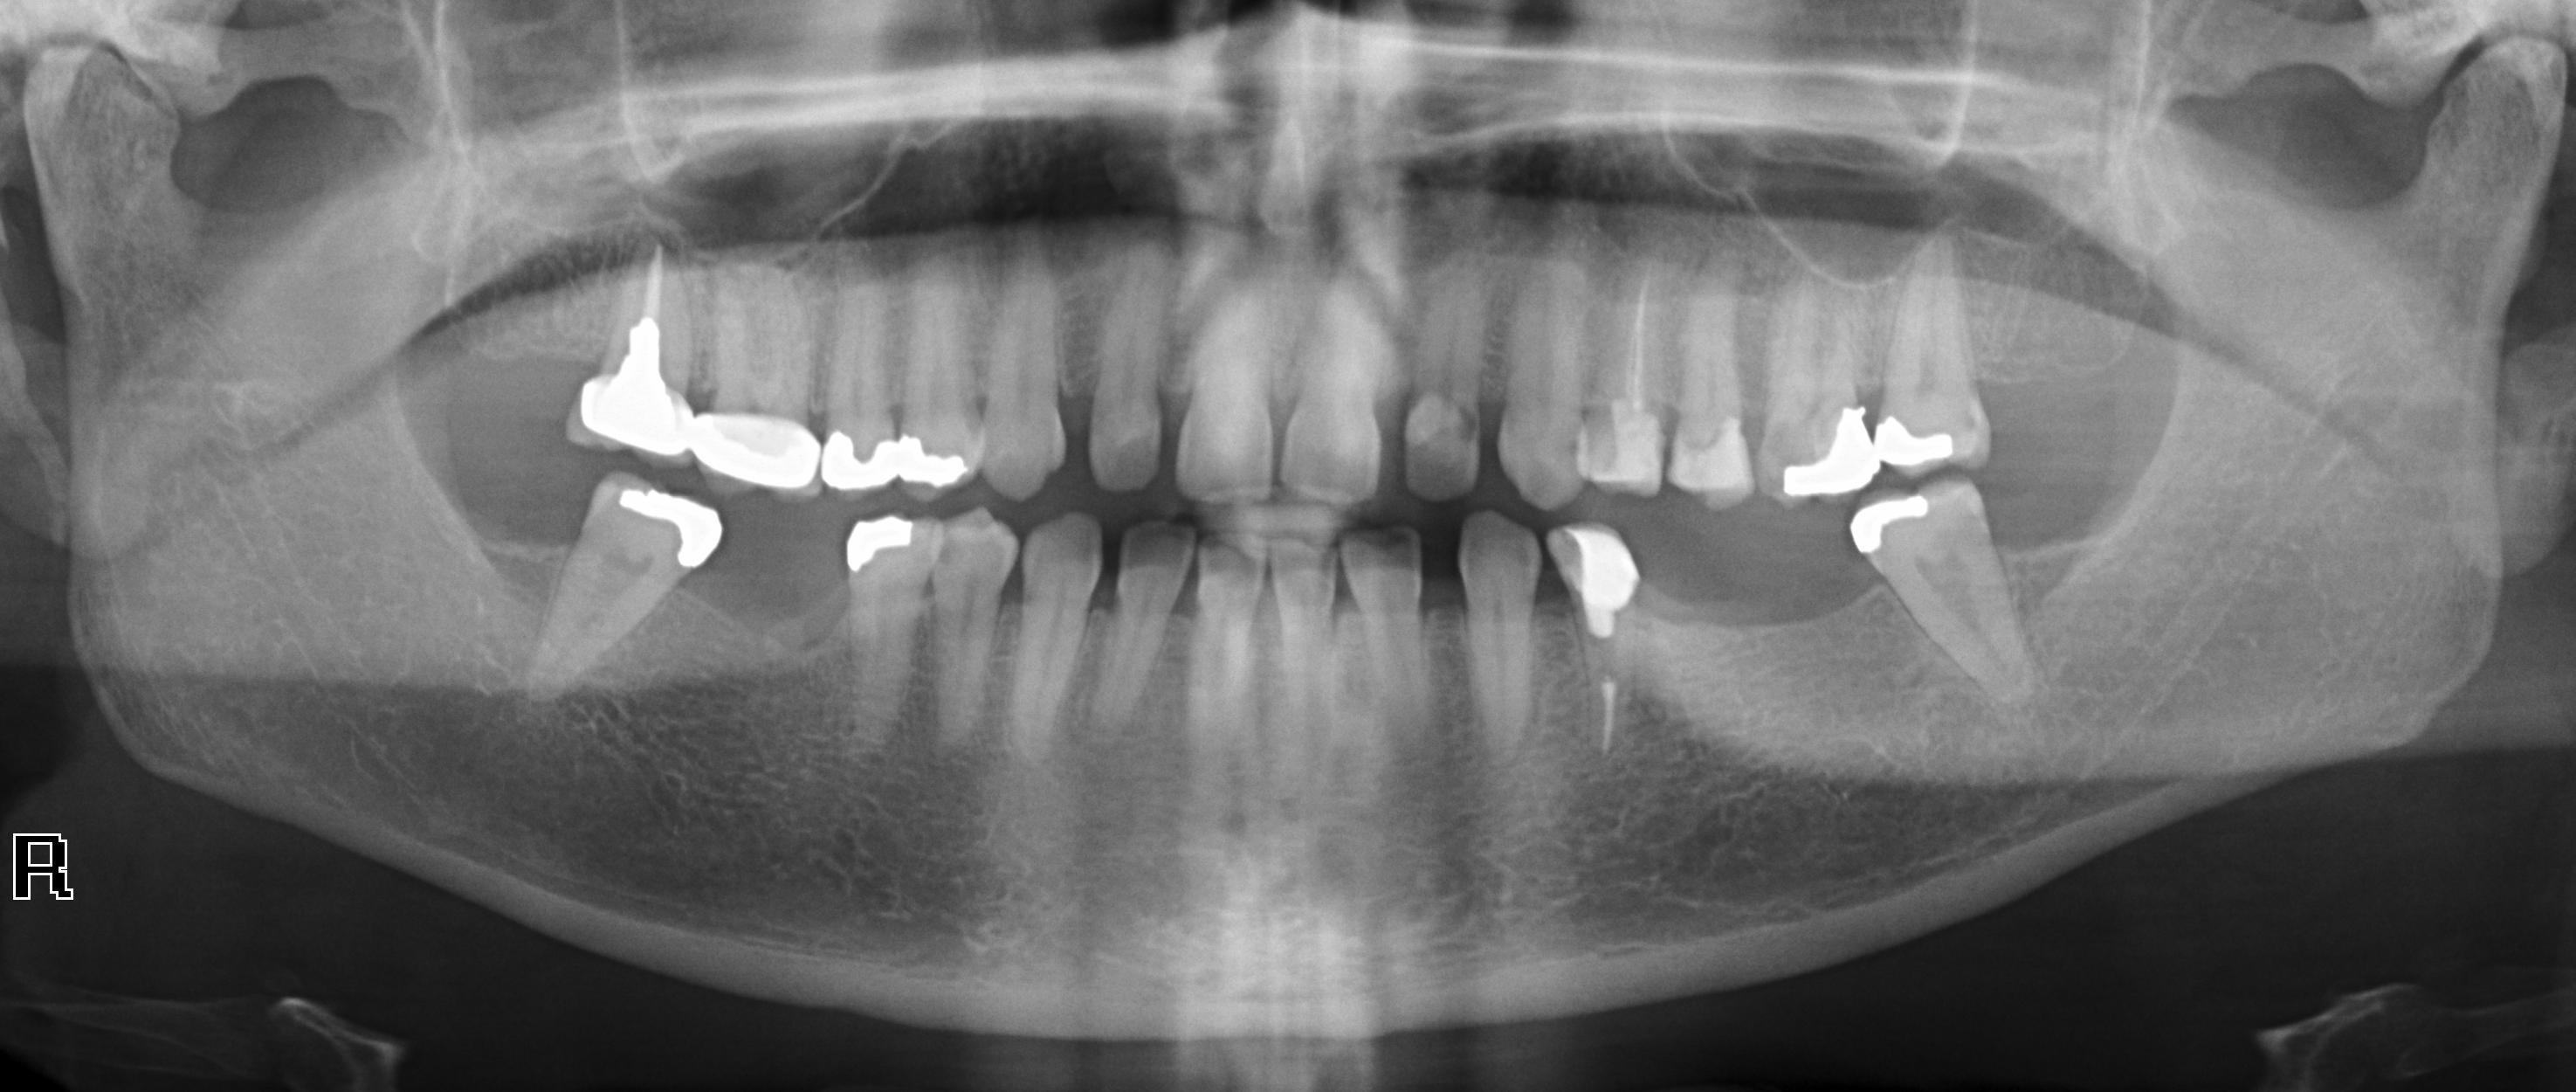Çürük: (607, 479, 738, 577), (699, 398, 820, 495), (575, 369, 696, 456), (1767, 404, 1876, 501), (1558, 521, 1643, 644), (1674, 418, 1753, 512), (1600, 392, 1658, 500), (1842, 493, 1938, 555), (1874, 412, 1955, 480), (828, 425, 898, 498), (901, 427, 977, 484), (833, 516, 913, 570)
